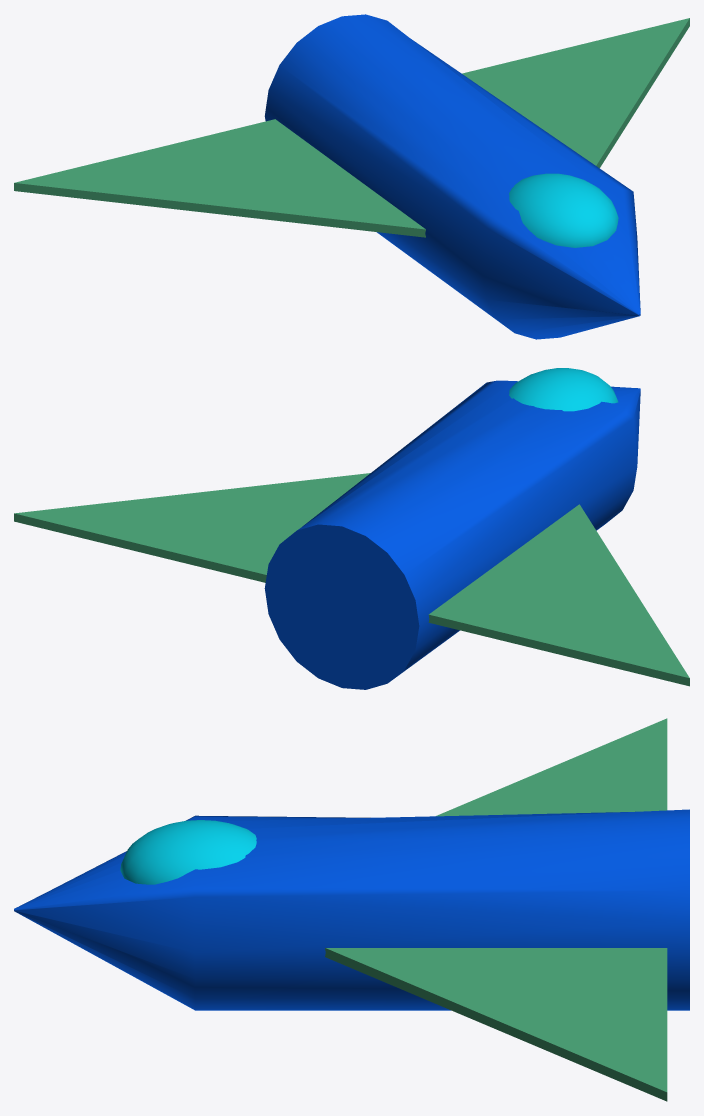
The model's file is Enemy_.fbx.
3 renders of one model, top to bottom at view 1: azimuth 30°, elevation 25°; view 2: azimuth 150°, elevation 25°; view 3: azimuth 270°, elevation 25°, orthographic. The views are drawn at different scales.
Visible parts, largest first — view 1: pCube2; view 2: pCube2; view 3: pCube2.
Boxes of the visible parts, <box> form: pCube2: <box>14,14,689,339</box>; pCube2: <box>14,368,689,689</box>; pCube2: <box>14,718,689,1101</box>.
Size of the model in its own units: 1.07 by 0.2451 by 0.8179.
